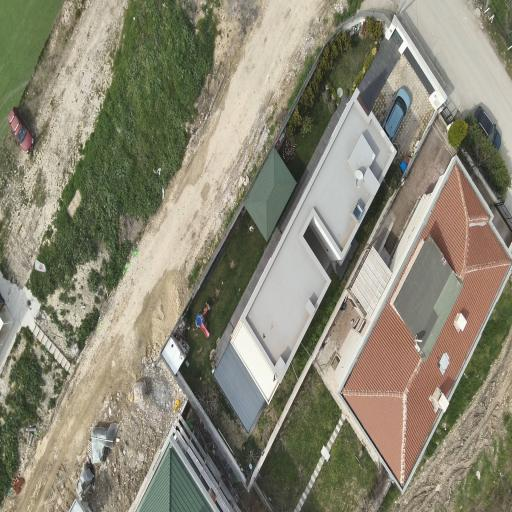car: (383, 87, 410, 141), (473, 106, 501, 149), (8, 107, 34, 153)
